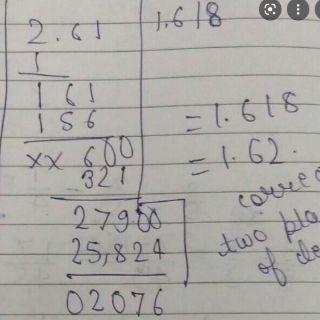.: (54, 32, 62, 42)
0: (63, 287, 85, 316), (109, 288, 128, 314)
1: (92, 14, 102, 40), (118, 163, 128, 187)
2: (266, 134, 285, 166), (25, 17, 46, 45), (86, 285, 106, 313), (68, 234, 84, 266), (97, 165, 113, 189)
3: (81, 168, 94, 190)
4: (151, 235, 168, 262)
5: (58, 107, 76, 134)
6: (152, 284, 166, 317), (68, 19, 84, 41)
7: (130, 288, 148, 319), (93, 204, 111, 231)
8: (280, 86, 299, 114), (203, 3, 224, 27), (112, 240, 128, 264)
9: (115, 207, 130, 234)
